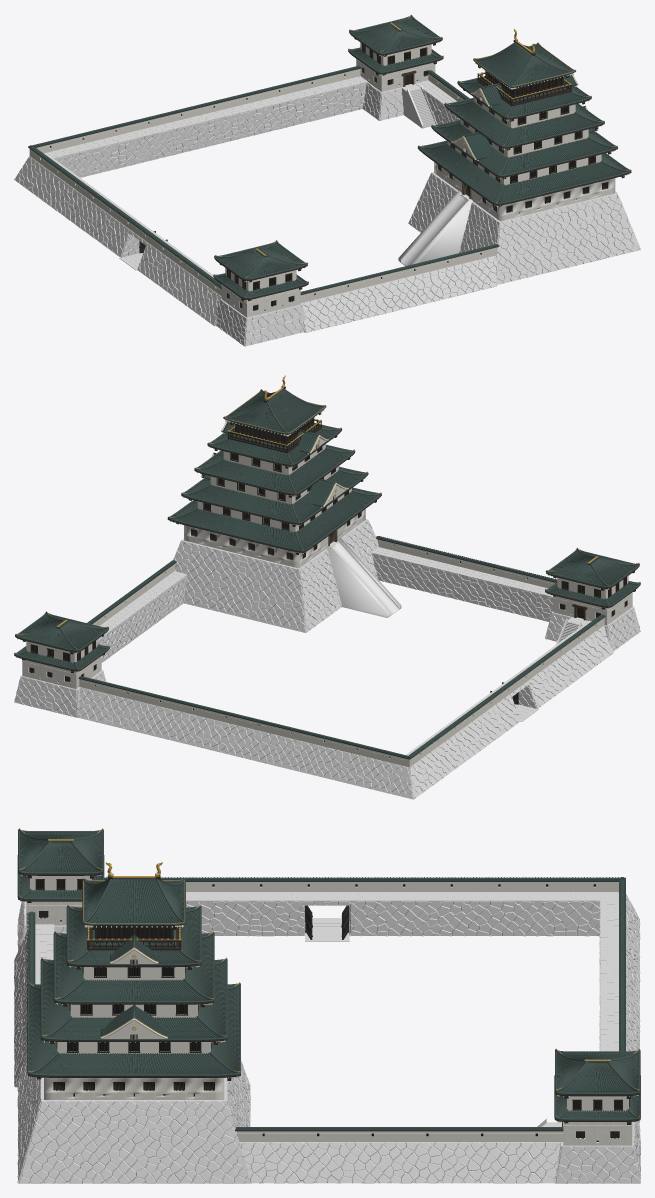
File: JapanCastle.fbx
The picture shows the model from 3 angles, top to bottom: view 1: azimuth 30°, elevation 25°; view 2: azimuth 150°, elevation 25°; view 3: azimuth 270°, elevation 25°; orthographic projection. The views are drawn at different scales.
Parts seen in each view (by area): view 1: Ishigaki_Continuous_Connected_Stone_Facades, JC_Keep_F1, JC_Tenshu_F1_Curved_Tile_Roof, Perimeter_North_Walkway_And_White_Parapet, Castle_Integrated_Ishigaki_Keep_Yagura_Wall_Ring, JC_Tenshu_F3_Curved_Tile_Roof, JC_Tenshu_F2_Curved_Tile_Roof, JC_Tenshu_F5_Irimoya_Roof, Perimeter_North_Flat_Stone_Walkway_Paving, Perimeter_West_Walkway_And_White_Parapet, Perimeter_South_Walkway_And_White_Parapet, JC_Yagura_NE_F2_Ridge_Roof (+18 smaller); view 2: Ishigaki_Continuous_Connected_Stone_Facades, JC_Keep_F1, JC_Tenshu_F1_Curved_Tile_Roof, Perimeter_North_Walkway_And_White_Parapet, Castle_Integrated_Ishigaki_Keep_Yagura_Wall_Ring, JC_Tenshu_F3_Curved_Tile_Roof, JC_Tenshu_F2_Curved_Tile_Roof, JC_Tenshu_F5_Irimoya_Roof, Perimeter_West_Walkway_And_White_Parapet, Perimeter_South_Walkway_And_White_Parapet, JC_Yagura_NE_F2_Ridge_Roof, JC_Yagura_SW_F2_Ridge_Roof (+17 smaller); view 3: Ishigaki_Continuous_Connected_Stone_Facades, Castle_Integrated_Ishigaki_Keep_Yagura_Wall_Ring, JC_Tenshu_F1_Curved_Tile_Roof, Perimeter_West_Walkway_And_White_Parapet, JC_Tenshu_F3_Curved_Tile_Roof, JC_Tenshu_F2_Curved_Tile_Roof, JC_Tenshu_F5_Irimoya_Roof, Perimeter_East_Walkway_And_White_Parapet, JC_Keep_F1, JC_Yagura_NE_F2_Ridge_Roof, Perimeter_West_Flat_Stone_Walkway_Paving, JC_Yagura_SW_F2_Ridge_Roof (+19 smaller).
Part boxes in pixels (box(x1,y1,x2,y2)): Ishigaki_Continuous_Connected_Stone_Facades: box(14, 82, 640, 346); JC_Keep_F1: box(398, 162, 615, 266); JC_Tenshu_F1_Curved_Tile_Roof: box(417, 140, 631, 205); Perimeter_North_Walkway_And_White_Parapet: box(28, 65, 367, 158); Castle_Integrated_Ishigaki_Keep_Yagura_Wall_Ring: box(20, 82, 638, 344); JC_Tenshu_F3_Curved_Tile_Roof: box(444, 97, 604, 148); JC_Tenshu_F2_Curved_Tile_Roof: box(431, 119, 617, 177); JC_Tenshu_F5_Irimoya_Roof: box(473, 40, 575, 87); Perimeter_North_Flat_Stone_Walkway_Paving: box(44, 76, 367, 158); Perimeter_West_Walkway_And_White_Parapet: box(29, 146, 221, 296); Perimeter_South_Walkway_And_White_Parapet: box(300, 244, 499, 302); JC_Yagura_NE_F2_Ridge_Roof: box(349, 14, 442, 55); Ishigaki_Continuous_Connected_Stone_Facades: box(14, 519, 640, 799); JC_Keep_F1: box(184, 509, 401, 617); JC_Tenshu_F1_Curved_Tile_Roof: box(167, 487, 381, 552); Perimeter_North_Walkway_And_White_Parapet: box(78, 676, 412, 767); Castle_Integrated_Ishigaki_Keep_Yagura_Wall_Ring: box(15, 519, 637, 797); JC_Tenshu_F3_Curved_Tile_Roof: box(194, 444, 355, 495); JC_Tenshu_F2_Curved_Tile_Roof: box(181, 466, 368, 524); JC_Tenshu_F5_Irimoya_Roof: box(223, 387, 326, 434); Perimeter_West_Walkway_And_White_Parapet: box(408, 614, 605, 765); Perimeter_South_Walkway_And_White_Parapet: box(371, 536, 557, 597); JC_Yagura_NE_F2_Ridge_Roof: box(15, 611, 108, 652); JC_Yagura_SW_F2_Ridge_Roof: box(545, 547, 639, 588); Ishigaki_Continuous_Connected_Stone_Facades: box(14, 894, 640, 1183); Castle_Integrated_Ishigaki_Keep_Yagura_Wall_Ring: box(15, 901, 639, 1183); JC_Tenshu_F1_Curved_Tile_Roof: box(27, 982, 240, 1077); Perimeter_West_Walkway_And_White_Parapet: box(104, 877, 620, 901); JC_Tenshu_F3_Curved_Tile_Roof: box(53, 931, 214, 1004); JC_Tenshu_F2_Curved_Tile_Roof: box(40, 957, 227, 1041); JC_Tenshu_F5_Irimoya_Roof: box(82, 876, 185, 925); Perimeter_East_Walkway_And_White_Parapet: box(235, 1127, 563, 1141); JC_Keep_F1: box(44, 1077, 224, 1099); JC_Yagura_NE_F2_Ridge_Roof: box(555, 1048, 640, 1096); Perimeter_West_Flat_Stone_Walkway_Paving: box(186, 892, 618, 900); JC_Yagura_SW_F2_Ridge_Roof: box(18, 828, 103, 875).
Bounding box in the file's own units: 81.92 × 39.21 × 81.77.
